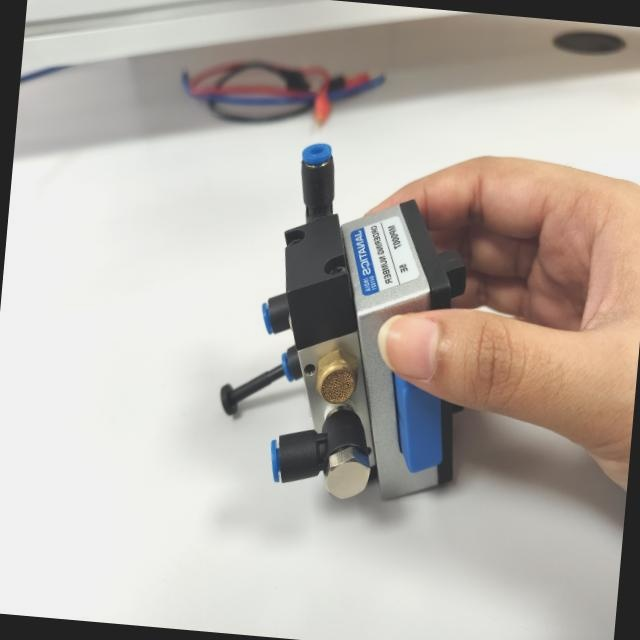5by2 DCV: (202, 115, 489, 520)
